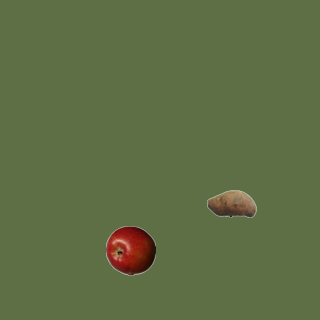Apple Braeburn: (105, 225, 155, 275)
Potato Sweet: (206, 178, 256, 228)
